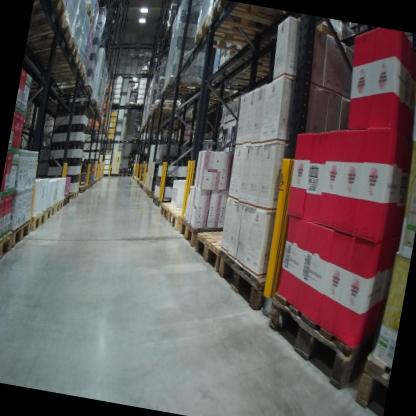pallet: (256, 288, 379, 403), (212, 238, 288, 313), (202, 0, 296, 43), (191, 15, 265, 58), (347, 352, 392, 416), (278, 13, 347, 53), (24, 12, 75, 66), (190, 220, 233, 276), (176, 211, 229, 255), (26, 30, 82, 70), (29, 0, 70, 42), (39, 50, 86, 81), (51, 64, 88, 94), (7, 214, 33, 255), (56, 79, 95, 102), (0, 227, 15, 279), (164, 74, 201, 95), (160, 85, 199, 104), (158, 196, 185, 223), (165, 201, 185, 235), (28, 206, 47, 234), (70, 94, 98, 113), (41, 201, 57, 228), (80, 1, 95, 24), (151, 193, 168, 210), (53, 196, 65, 216), (59, 191, 71, 210), (67, 188, 79, 202), (111, 100, 121, 111), (145, 187, 154, 198), (117, 170, 128, 179), (77, 184, 86, 194), (139, 68, 149, 77), (130, 134, 139, 143), (126, 169, 136, 177), (128, 100, 137, 108), (136, 101, 143, 107), (84, 184, 89, 192)
